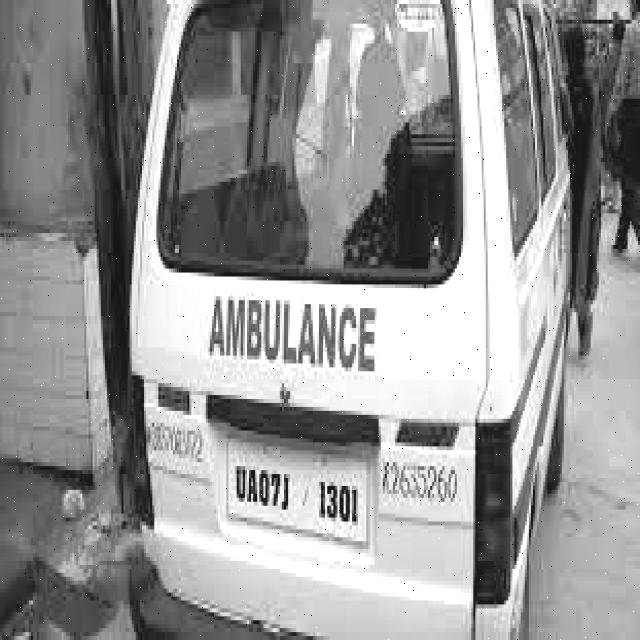Ambulance: (146, 0, 556, 640)
